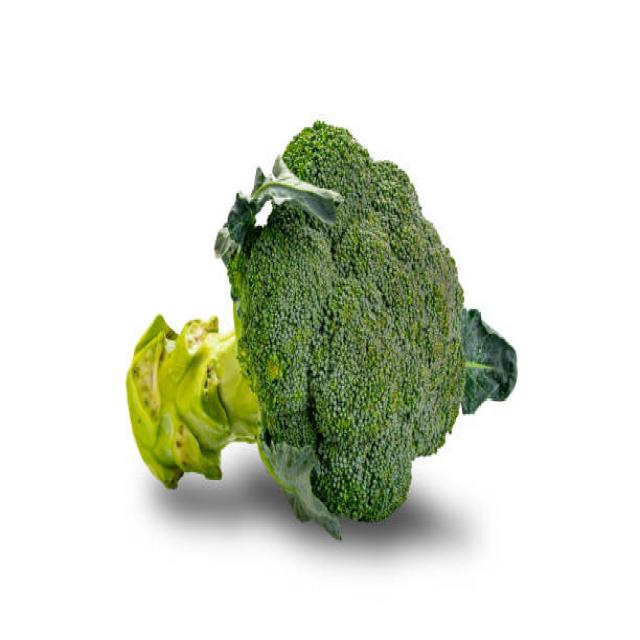broccoli: (56, 77, 572, 573)
